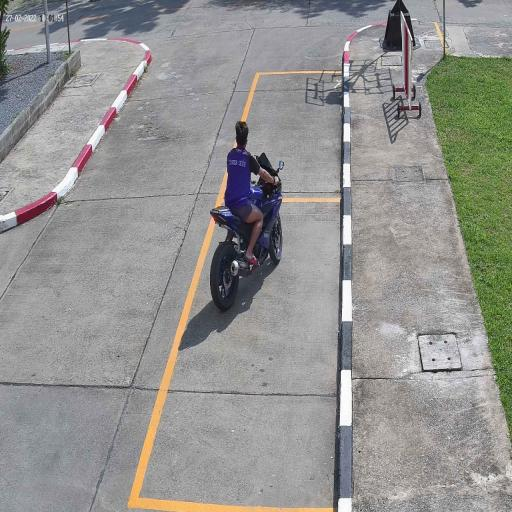motorcycle: (209, 200, 285, 312)
